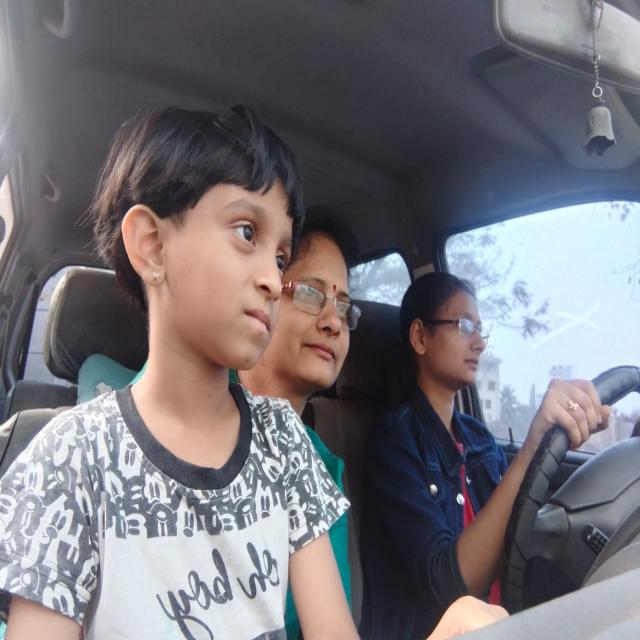person: (75, 84, 301, 397), (282, 200, 359, 398), (403, 262, 503, 408)
